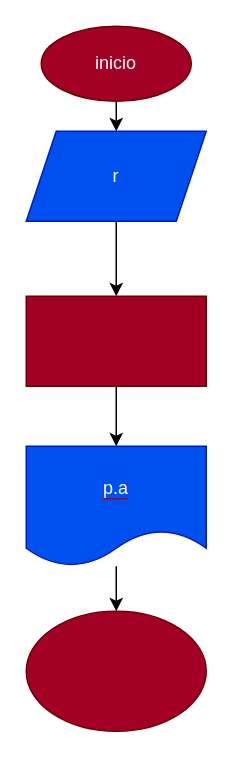
Image size: 233x758. Some labels were removed from this diagram. Each missing label, with the centre of its shape:
"FIN" goes at pixel 115 670.
"p=2 π A= πr 2" goes at pixel 115 340.
